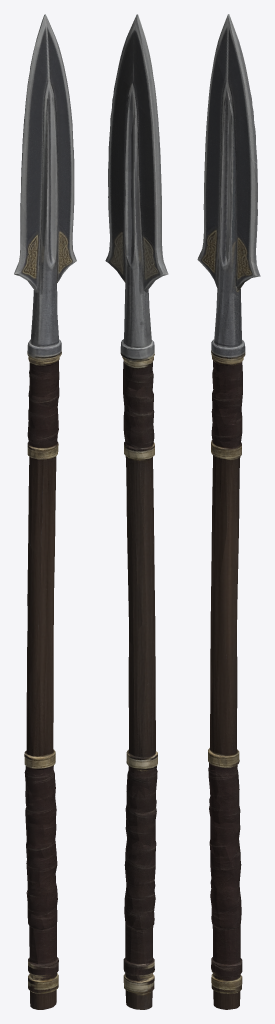
File: lance.glb
3 views of the same model, side by side, from view 1: azimuth 30°, elevation 25°; view 2: azimuth 150°, elevation 25°; view 3: azimuth 330°, elevation 25° (orthographic).
Visible parts, largest first — view 1: t5-lance-attachment-space; view 2: t5-lance-attachment-space; view 3: t5-lance-attachment-space.
Part boxes in pixels (box(x1,y1,x2,y2)): t5-lance-attachment-space: box(14, 14, 76, 1009); t5-lance-attachment-space: box(105, 14, 168, 1009); t5-lance-attachment-space: box(197, 14, 260, 1009).
Bounding box in the file's own units: 0.2055 × 3.1 × 0.0903.
1 material, 1 textured.
